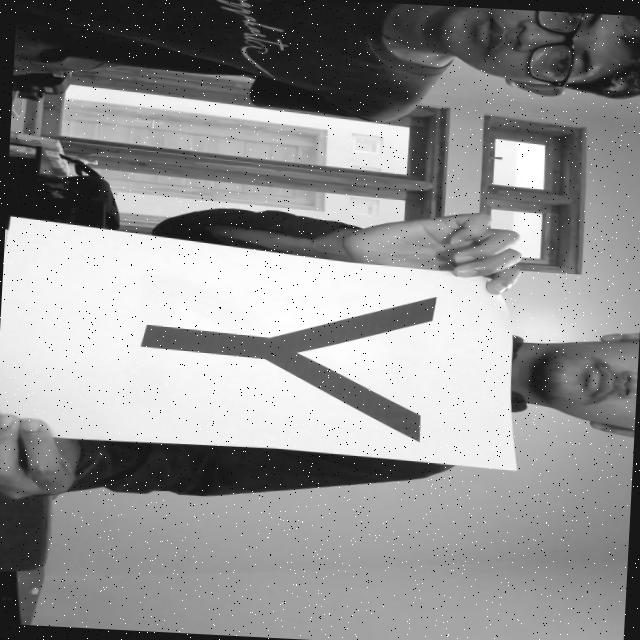y: (120, 274, 463, 452)
